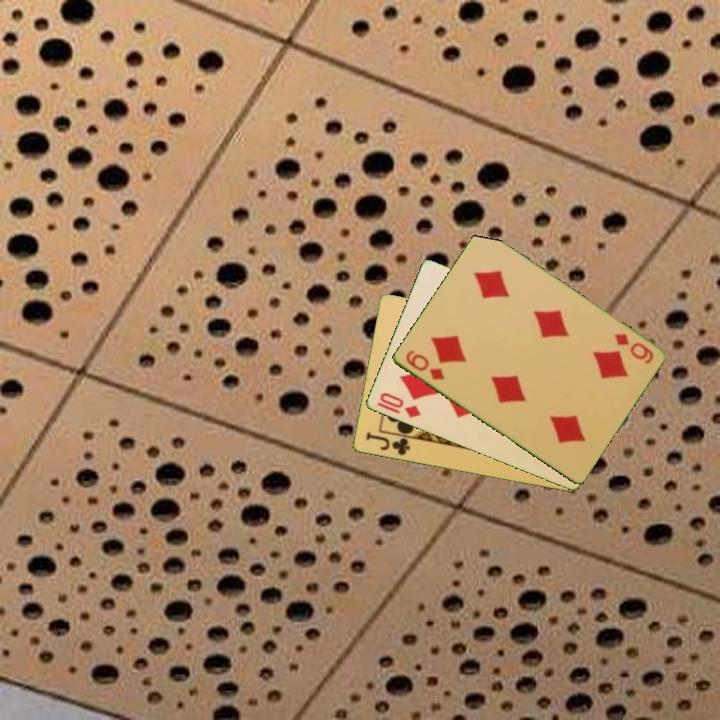10d: (376, 389, 424, 421)
6d: (401, 346, 447, 383), (610, 330, 656, 367)
Jc: (362, 429, 413, 458)
